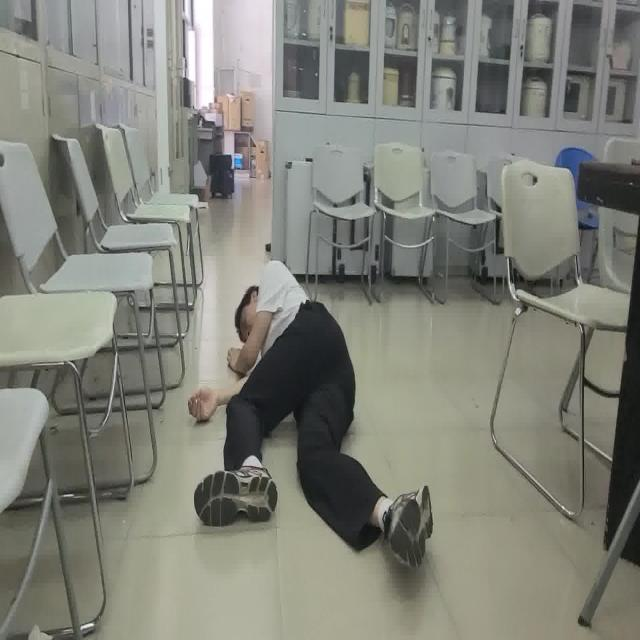Fall-Detected: (186, 258, 434, 574)
